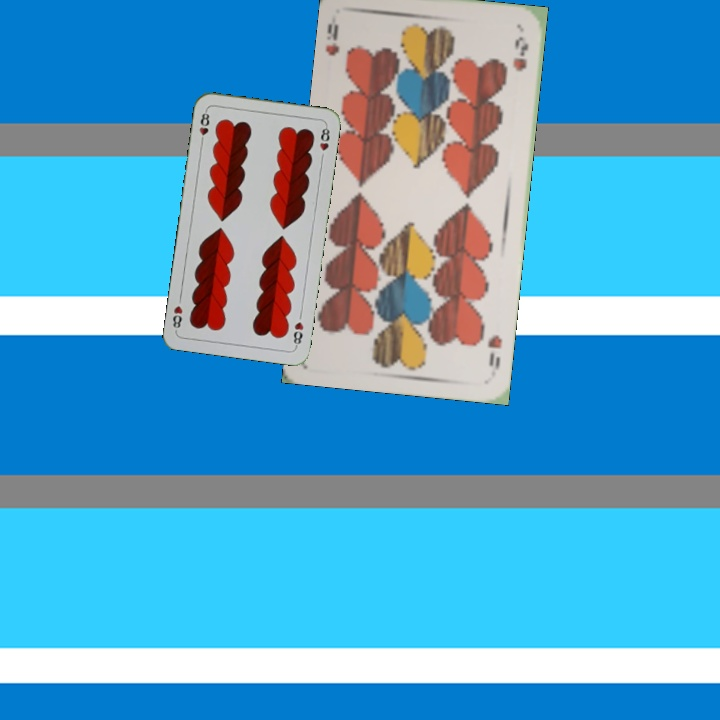H8: (195, 106, 212, 147), (289, 318, 306, 350)
H9: (484, 330, 505, 371), (321, 19, 342, 59)
